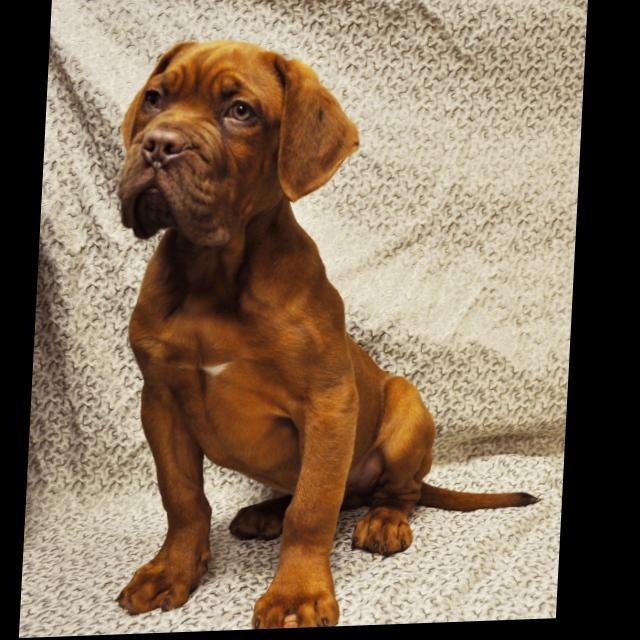dogue_de_bordeaux: (100, 31, 568, 637)
